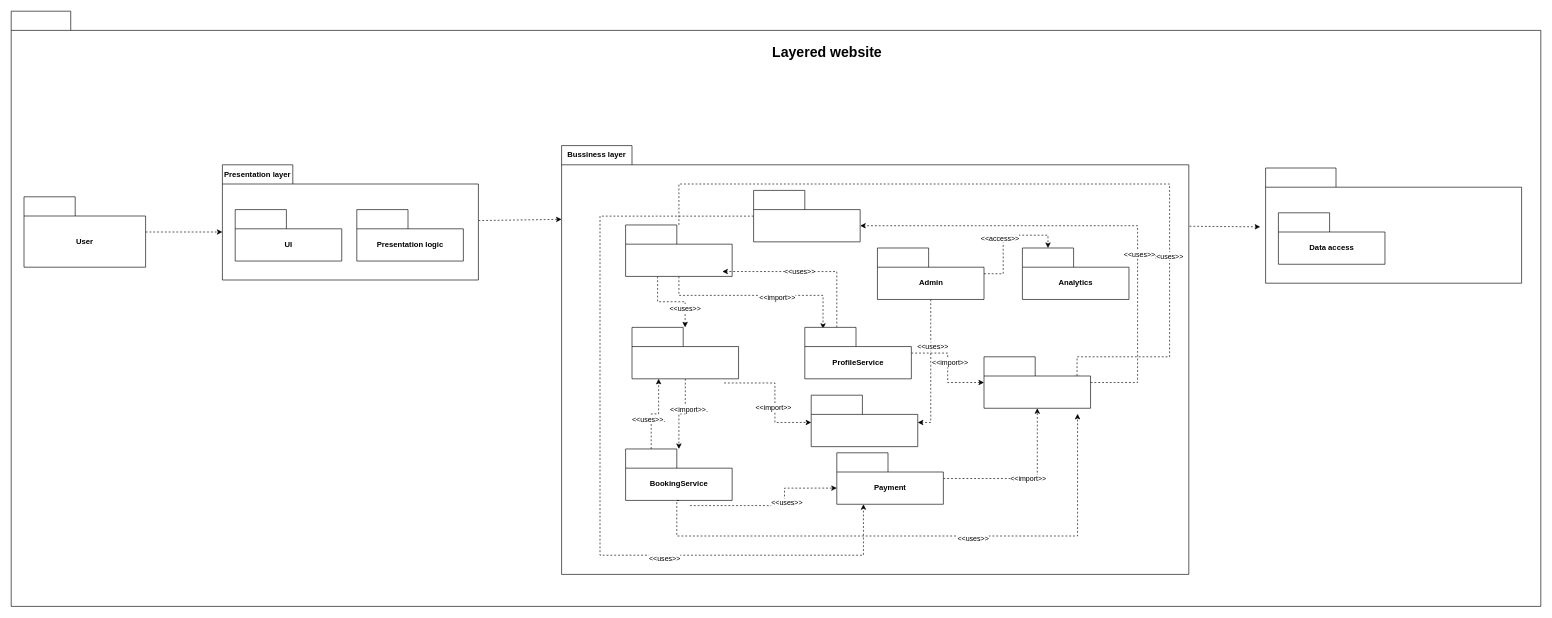
The diagram is 1552 pixels wide and 618 high, and some of its shapes have lost their labels. The shapes that lost their labels are listed below. From the top down, each one's box as (x1, y1, x2, y2) in pixels, then its label:
(753, 190, 860, 242): Status Updates
(1265, 167, 1522, 283): Database layer
(625, 224, 732, 276): User Management
(631, 327, 739, 379): ServiceManager
(983, 356, 1091, 408): Notification
(811, 395, 918, 447): Review
